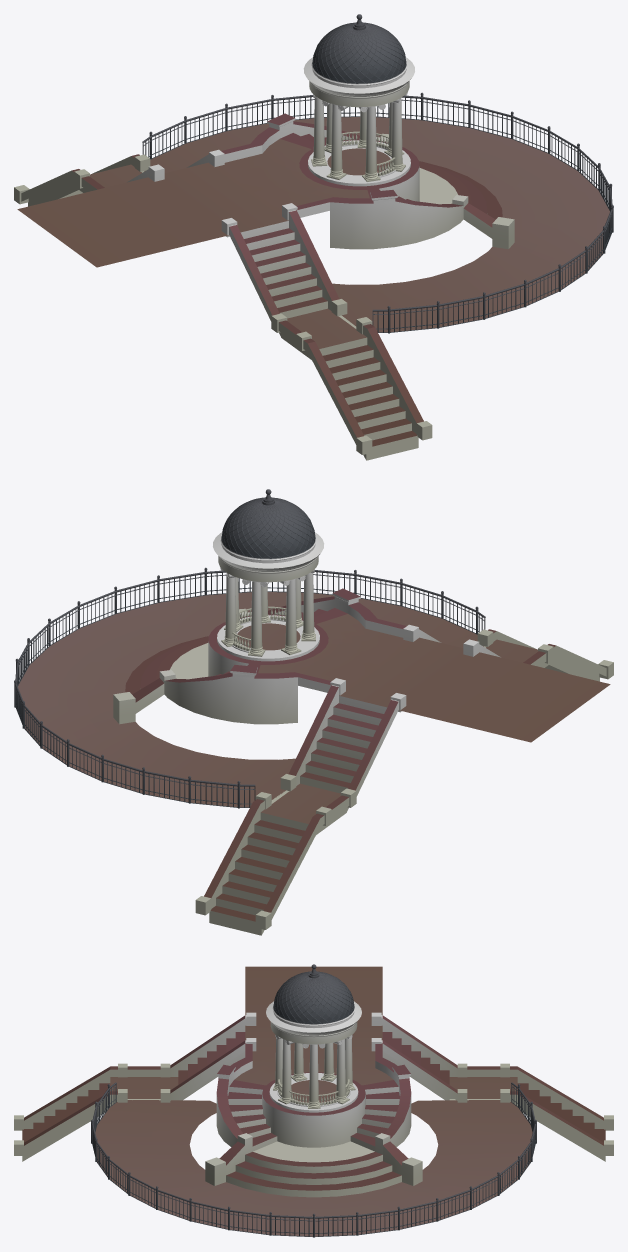
3 renders of one model, top to bottom at view 1: azimuth 30°, elevation 25°; view 2: azimuth 150°, elevation 25°; view 3: azimuth 270°, elevation 25°, orthographic. The views are drawn at different scales.
Parts seen in each view (by area): view 1: Circle.002; view 2: Circle.002; view 3: Circle.002.
Boxes of the visible parts, bbox=[...] form: Circle.002: bbox=[14, 14, 613, 460]; Circle.002: bbox=[14, 489, 613, 935]; Circle.002: bbox=[14, 964, 613, 1237].
Size of the model in its own units: 1200 by 620 by 1385.
